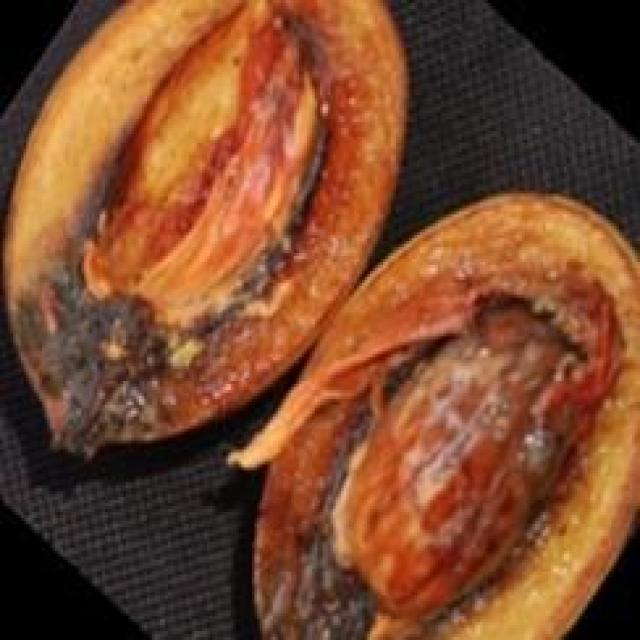damaged: (0, 0, 412, 464), (226, 193, 637, 637)
